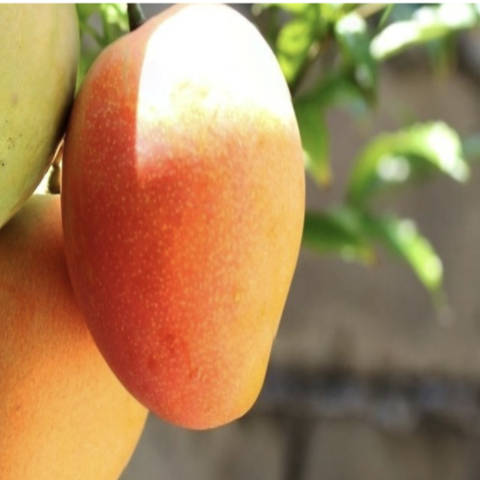mango: (26, 1, 327, 472)
